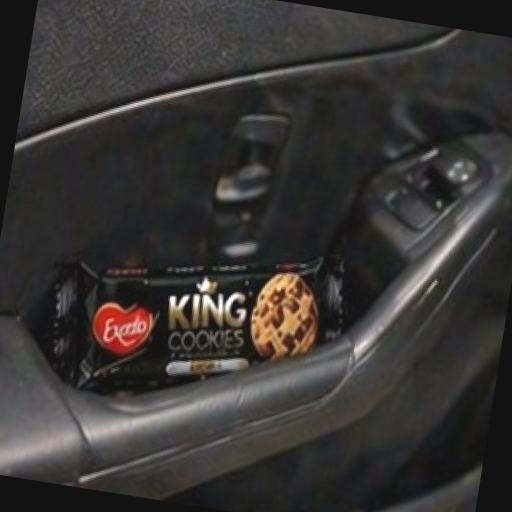king_cooking: (6, 176, 412, 458)
